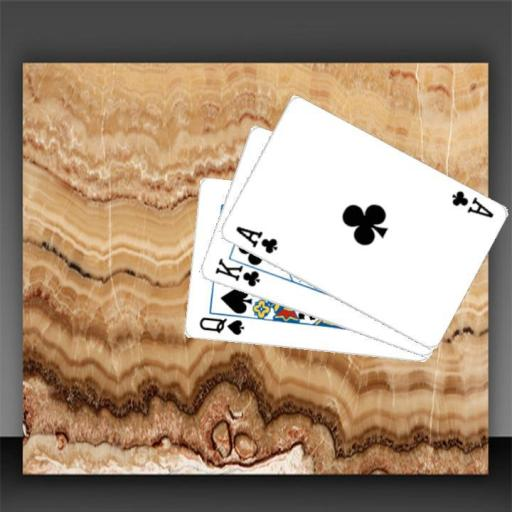AC: (448, 187, 495, 220), (232, 223, 279, 255)
KC: (211, 253, 270, 289)
QS: (196, 314, 246, 337)
